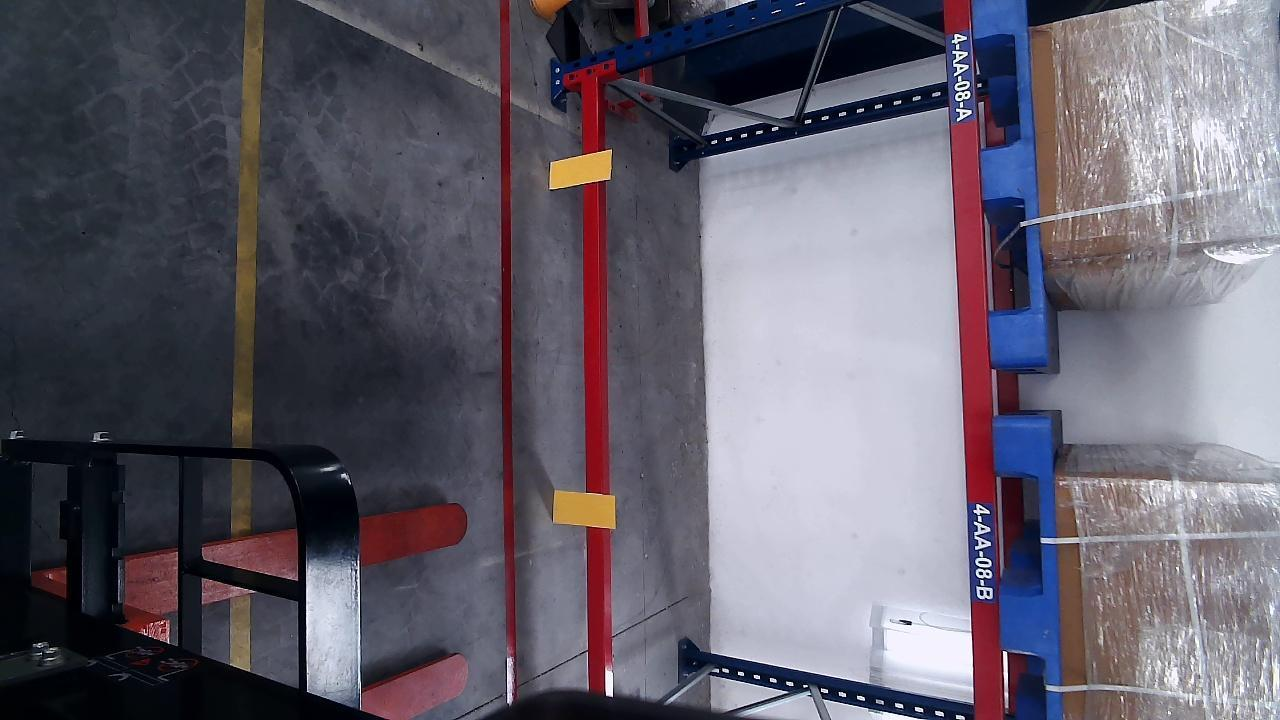red_line: (499, 1, 520, 705)
yellow_line: (231, 0, 265, 445)
